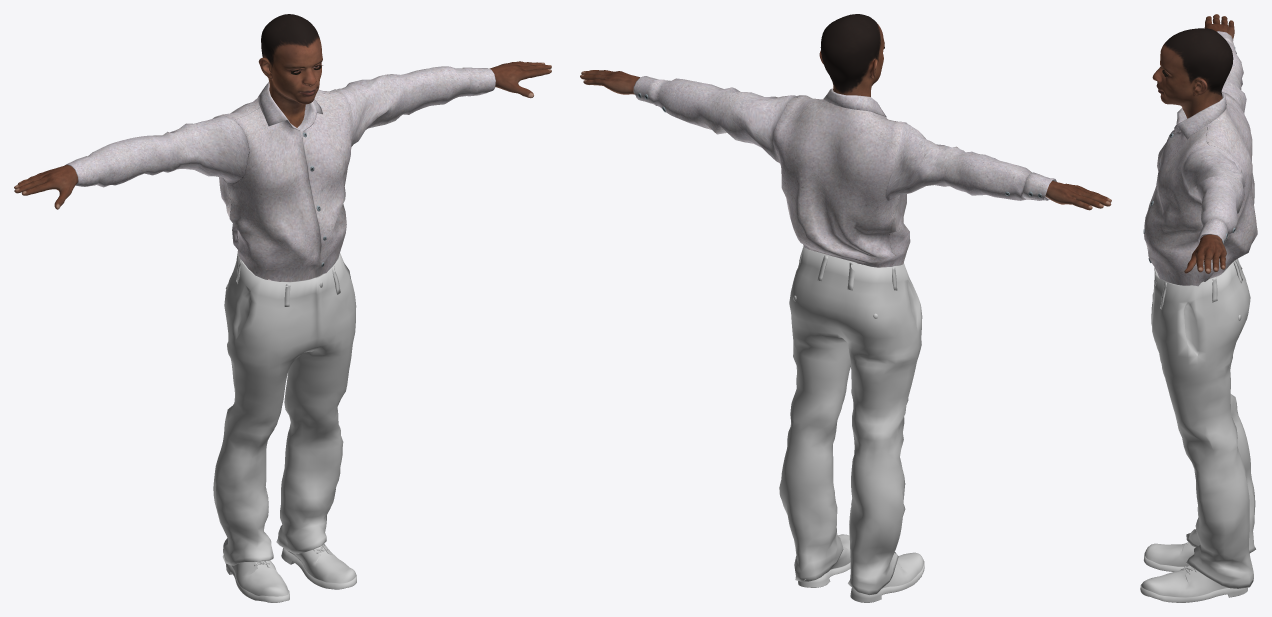
File: Male-dark-noHat.obj
3 renders of one model, left to right at view 1: azimuth 30°, elevation 25°; view 2: azimuth 150°, elevation 25°; view 3: azimuth 270°, elevation 25°, orthographic.
Visible parts, largest first — view 1: Tops, Bottoms, Body, Shoes; view 2: Bottoms, Tops, Body, Shoes; view 3: Bottoms, Tops, Body, Shoes.
Boxes of the visible parts, x1=… form: Tops: x1=65, y1=66, x2=495, y2=281; Bottoms: x1=213, y1=251, x2=356, y2=565; Body: x1=14, y1=14, x2=551, y2=209; Shoes: x1=225, y1=544, x2=356, y2=602; Bottoms: x1=779, y1=246, x2=922, y2=595; Tops: x1=633, y1=76, x2=1056, y2=267; Body: x1=580, y1=14, x2=1111, y2=210; Shoes: x1=798, y1=534, x2=924, y2=602; Bottoms: x1=1151, y1=259, x2=1255, y2=588; Tops: x1=1143, y1=31, x2=1257, y2=286; Body: x1=1152, y1=14, x2=1234, y2=273; Shoes: x1=1140, y1=542, x2=1250, y2=602.
Size of the model in its own units: 175 by 176 by 33.89.
